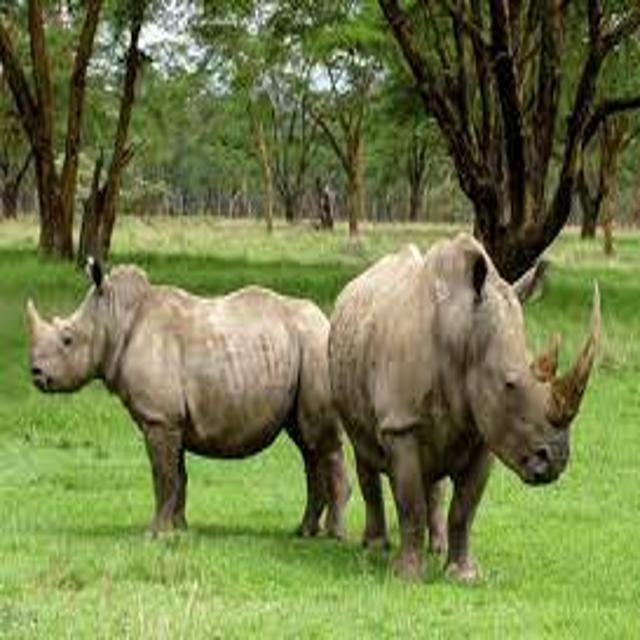rhino: (4, 226, 393, 582), (293, 201, 631, 609)
